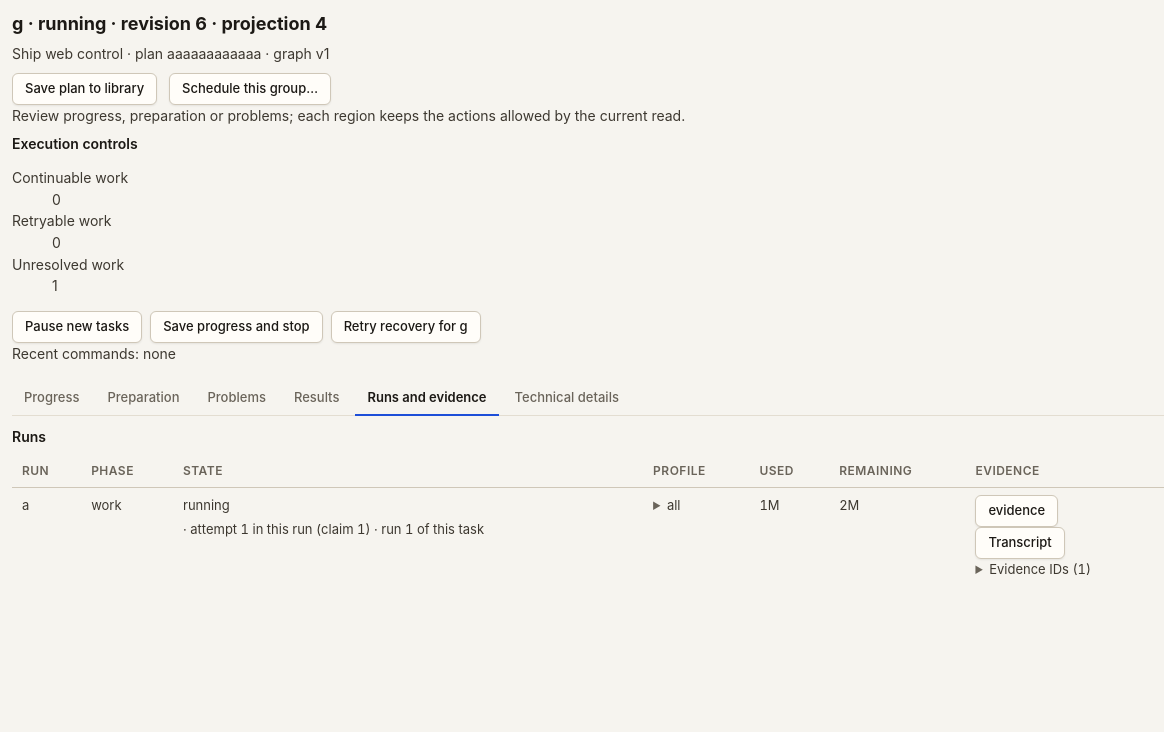
Test: evidence links › names the refusal instead of offering a download when the panel refuses
Click the button "evidence": coordinates (1017, 511) [975, 495, 1058, 527]
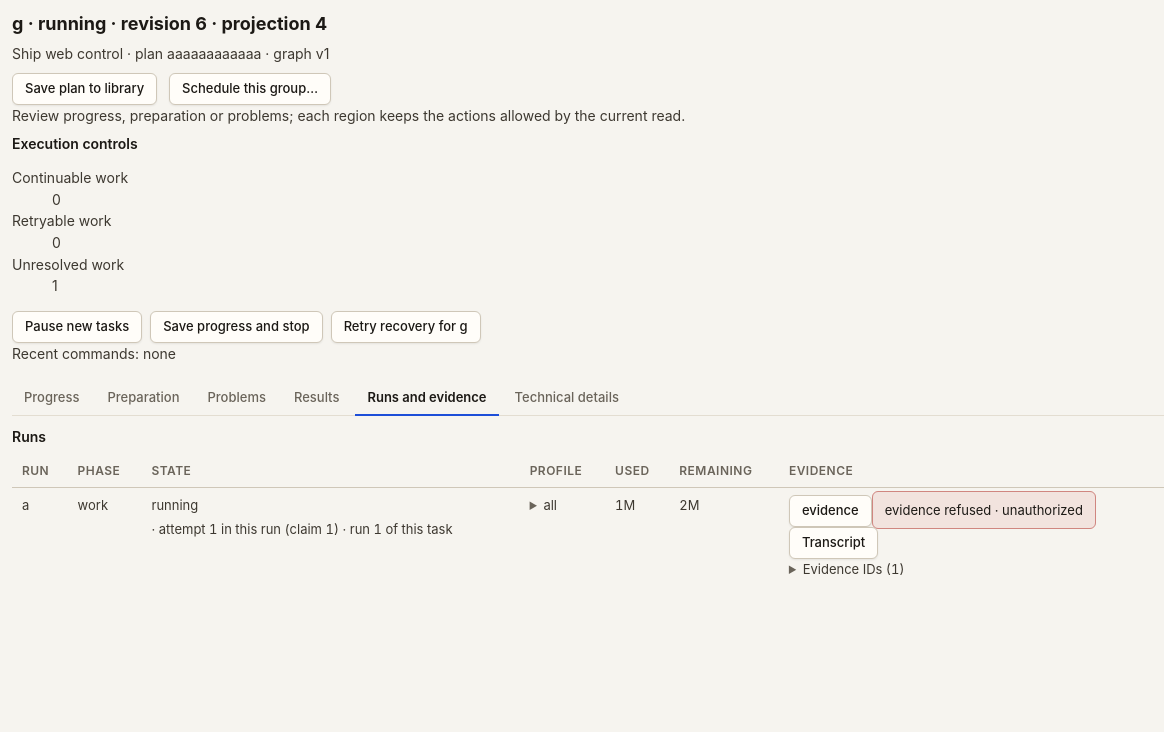
Now the message shows "unauthorized", box [885, 502, 1083, 518]
